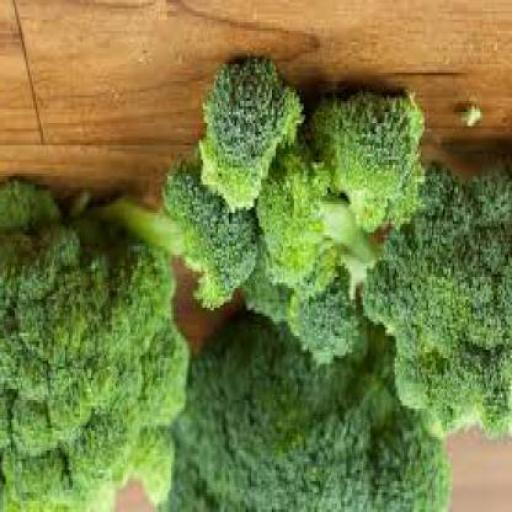biodegradable: (1, 184, 192, 510), (160, 319, 453, 511), (246, 92, 428, 370), (367, 162, 511, 450), (201, 56, 307, 218), (166, 162, 260, 316), (462, 107, 484, 131)
